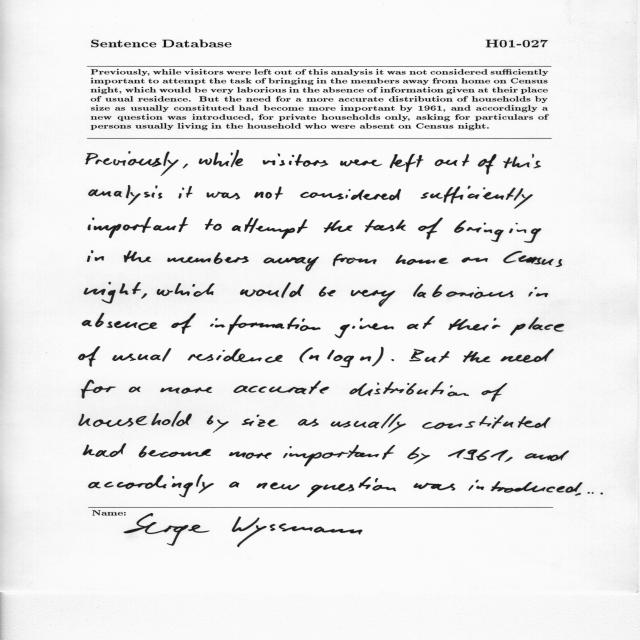word: (89, 475, 214, 498), (420, 186, 533, 209), (283, 445, 395, 467), (86, 151, 179, 176), (210, 315, 321, 335), (88, 217, 188, 238), (454, 220, 541, 243), (307, 477, 396, 498), (79, 411, 192, 427), (422, 415, 551, 429), (349, 382, 469, 397), (232, 217, 308, 239), (413, 284, 514, 299), (469, 480, 583, 493), (89, 185, 163, 205), (188, 348, 283, 363), (331, 414, 406, 433), (82, 313, 158, 331), (84, 282, 141, 304), (234, 381, 330, 394), (335, 318, 394, 338), (300, 189, 401, 200), (309, 350, 371, 367), (510, 317, 564, 336), (240, 282, 304, 298), (167, 252, 249, 264), (503, 251, 562, 267), (263, 153, 328, 167), (139, 446, 211, 458), (113, 348, 172, 362), (157, 283, 215, 297), (264, 257, 319, 271), (500, 349, 554, 363), (199, 150, 243, 167), (351, 290, 395, 307), (448, 449, 508, 461), (449, 318, 501, 331), (81, 380, 116, 399), (390, 154, 423, 172), (503, 154, 541, 169), (83, 444, 126, 457), (418, 218, 443, 240), (332, 254, 377, 266), (409, 349, 450, 362), (396, 255, 449, 265), (171, 313, 196, 334), (364, 220, 406, 232), (482, 383, 508, 402), (525, 450, 569, 461), (241, 414, 278, 427), (79, 347, 100, 367), (435, 154, 469, 166), (207, 415, 229, 433), (407, 447, 430, 464), (478, 154, 497, 174), (254, 187, 283, 200), (324, 220, 353, 233), (407, 316, 435, 329), (160, 387, 212, 394), (256, 482, 300, 490), (229, 451, 272, 459), (413, 483, 455, 491), (124, 251, 151, 263), (463, 351, 490, 363), (340, 160, 382, 167), (207, 192, 240, 200), (372, 347, 384, 366), (299, 347, 313, 363), (205, 219, 222, 231), (88, 250, 105, 262), (319, 286, 336, 297), (179, 186, 193, 199), (298, 419, 319, 427), (462, 257, 488, 262), (529, 287, 538, 297), (129, 387, 141, 393), (229, 482, 239, 488), (536, 293, 548, 297), (504, 457, 513, 462), (141, 293, 147, 299), (182, 164, 188, 169), (588, 492, 603, 494), (575, 493, 581, 496), (392, 359, 395, 361)
